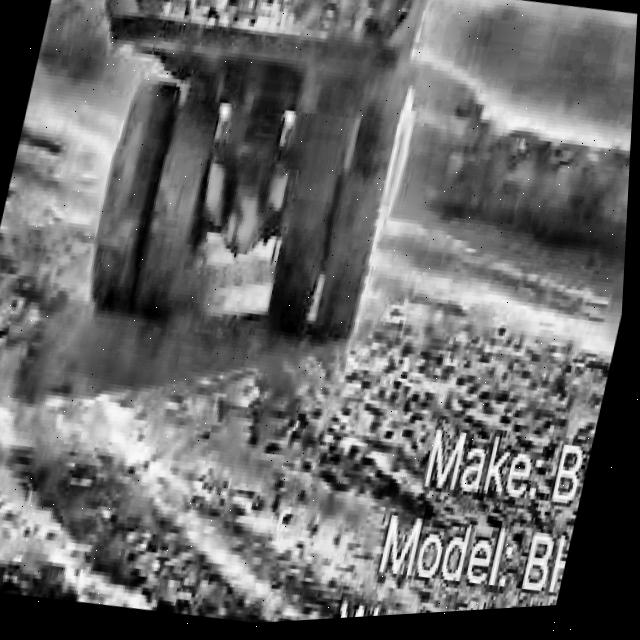dump_truck: (28, 0, 460, 389)
